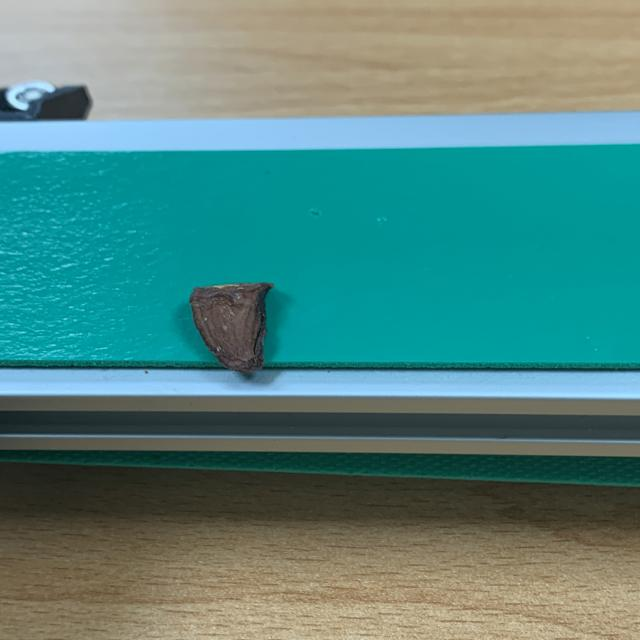Flat_cocoabeans: (139, 255, 318, 390)
